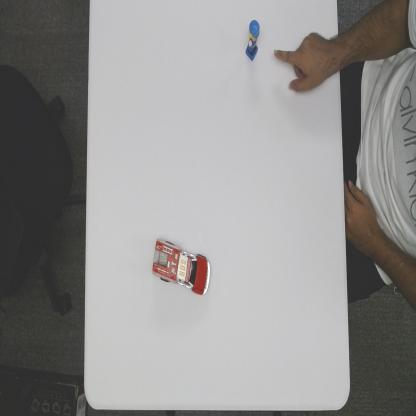Firetruck: (152, 237, 211, 299)
Hand: (273, 34, 339, 95)
